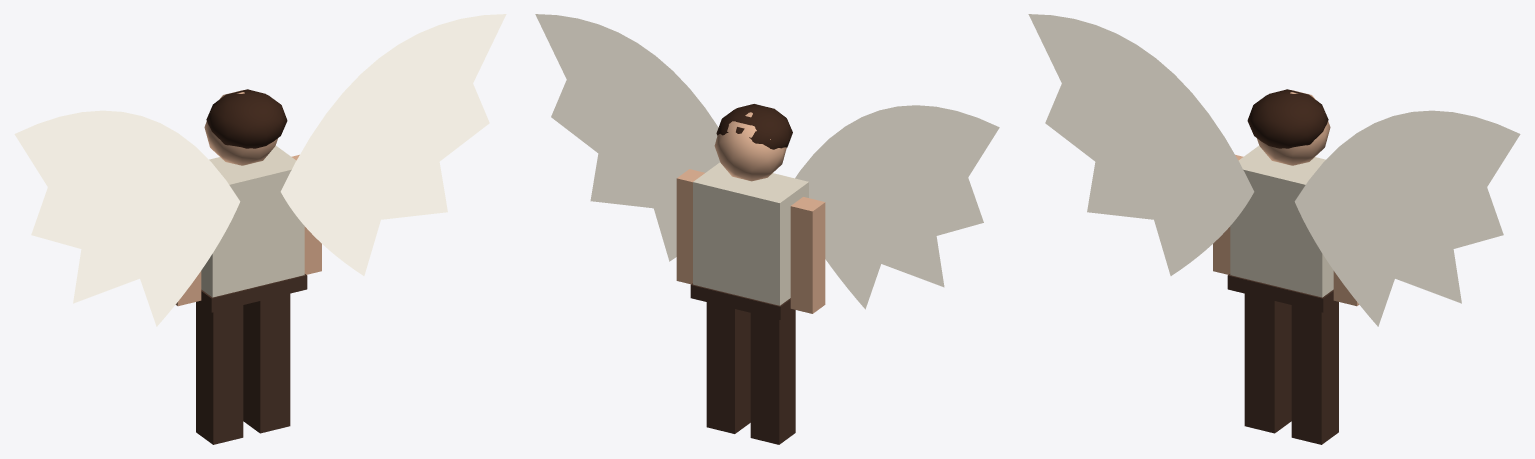
The model's file is runner-with-angelwings.glb.
3 renders of one model, left to right at view 1: azimuth 30°, elevation 25°; view 2: azimuth 150°, elevation 25°; view 3: azimuth 330°, elevation 25°, orthographic. The views are drawn at different scales.
Parts seen in each view (by area): view 1: Runner with Angel Wings; view 2: Runner with Angel Wings; view 3: Runner with Angel Wings.
Part boxes in pixels (box(x1,y1,x2,y2)): Runner with Angel Wings: box(14, 14, 506, 444); Runner with Angel Wings: box(535, 14, 999, 444); Runner with Angel Wings: box(1028, 14, 1520, 444).
Size of the model in its own units: 2.94 by 2.14 by 0.45.
